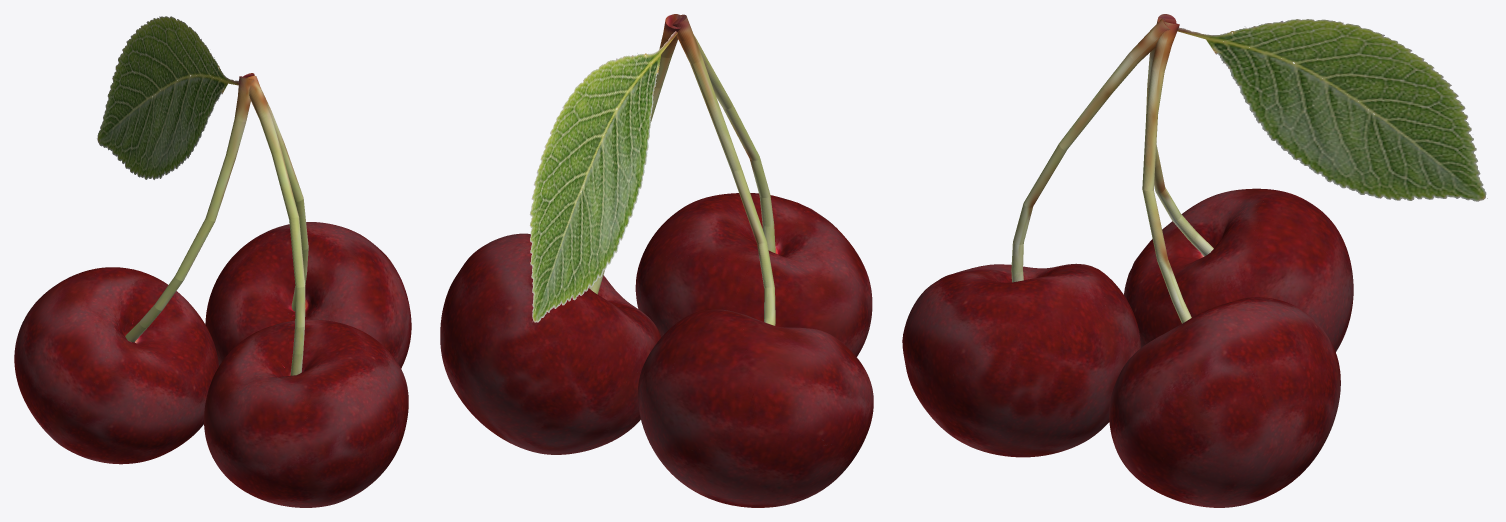
Rendered from cherries.glb.
3 renders of one model, left to right at view 1: azimuth 30°, elevation 25°; view 2: azimuth 150°, elevation 25°; view 3: azimuth 270°, elevation 25°, orthographic. The views are drawn at different scales.
Parts seen in each view (by area): view 1: leaf.001_3; view 2: leaf.001_3; view 3: leaf.001_3.
Boxes of the visible parts, x1=… form: leaf.001_3: x1=14, y1=16, x2=411, y2=507; leaf.001_3: x1=440, y1=14, x2=873, y2=507; leaf.001_3: x1=902, y1=14, x2=1487, y2=507.
Bounding box in the file's own units: 2.8 × 2.81 × 3.44.
Materials: 3 (3 with a texture image).
